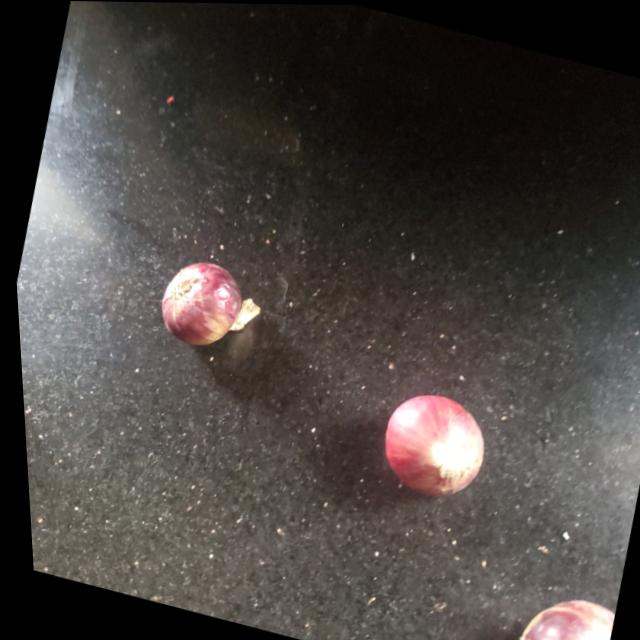onion: (362, 384, 491, 509), (150, 251, 252, 352), (495, 581, 609, 640)
